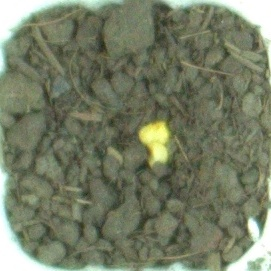pepper seed: (57, 55, 229, 227), (52, 46, 223, 193)
